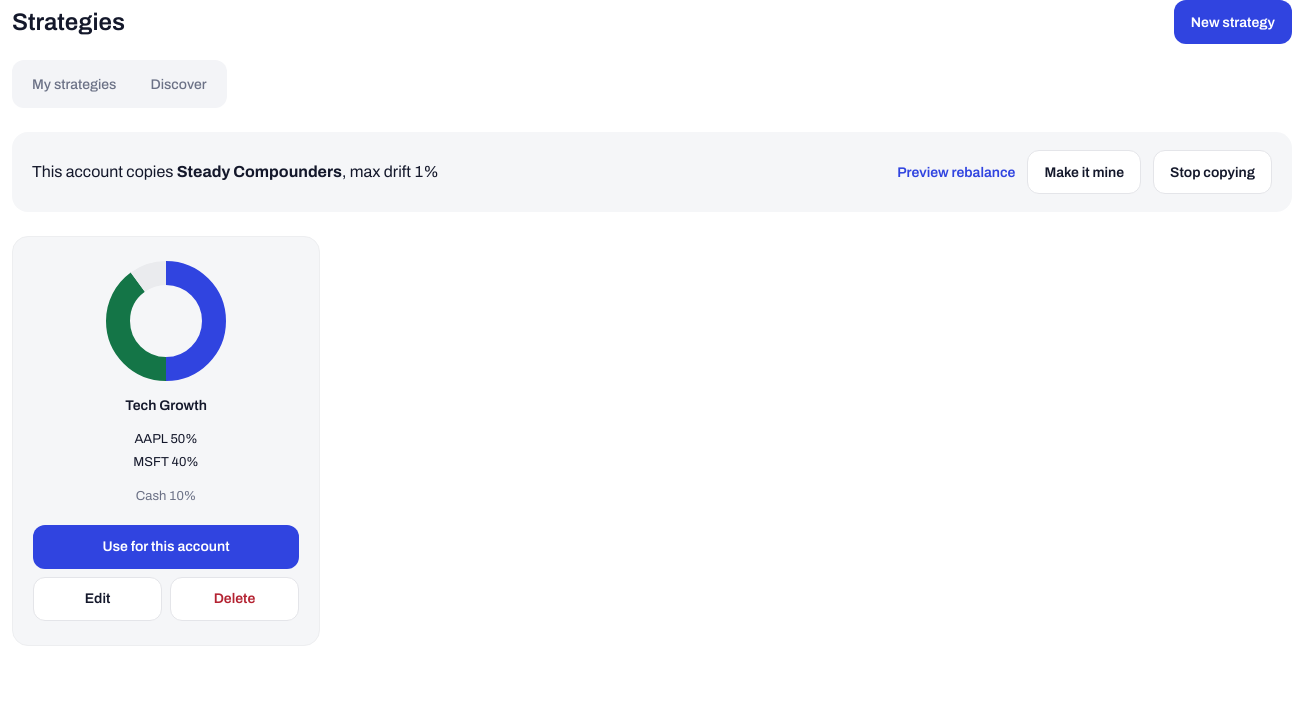
PiesComponent › a copied pie › shows why the pie could not be made the user's own
The image size is (1292, 720).
Click the button "Make it mine".
click(1084, 172)  # box left=1027, top=150, right=1141, bottom=194
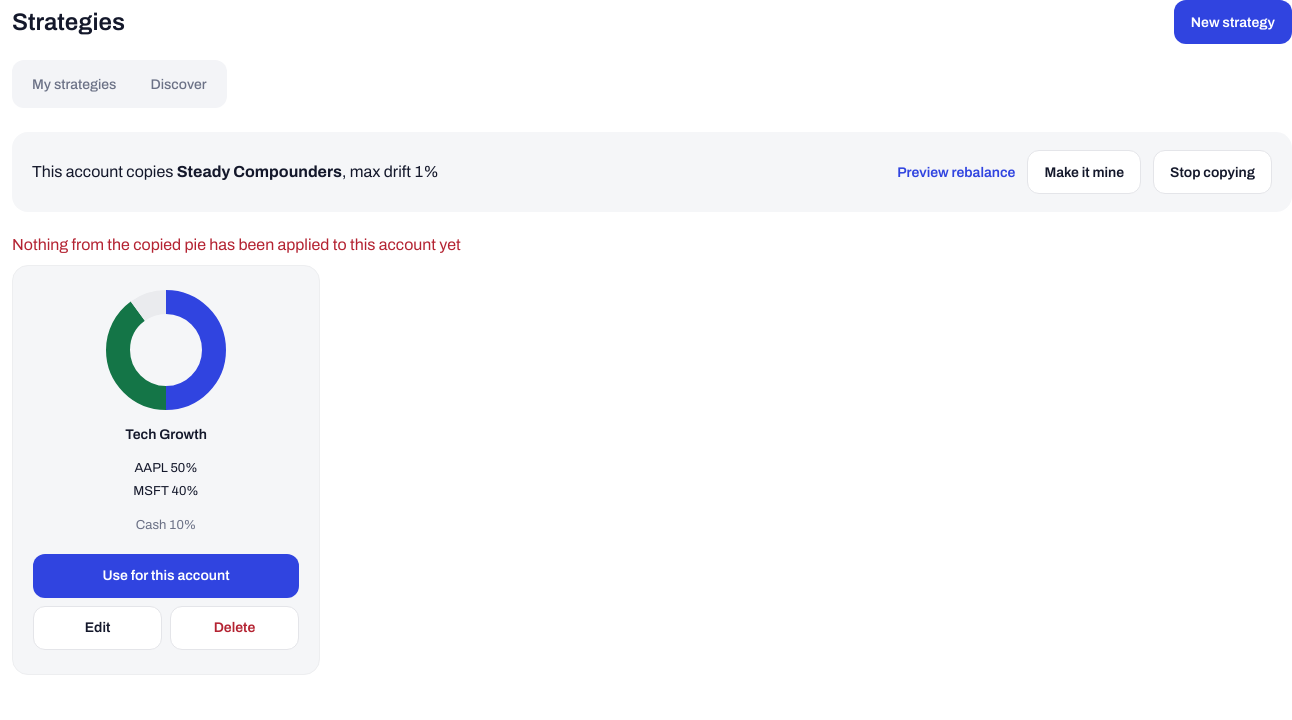
Check: the message "Nothing from the copied pie has been applied to this account yet" is shown, box left=12, top=236, right=461, bottom=253
